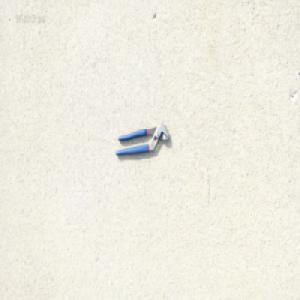Pliers: (113, 122, 169, 157)
